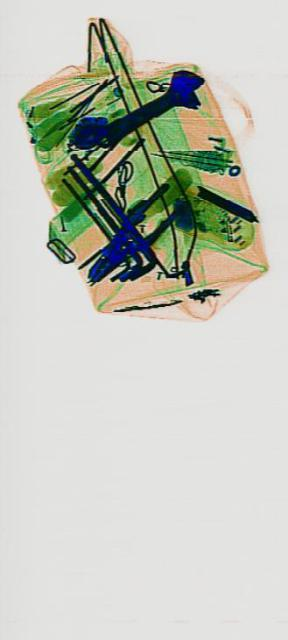Pliers: (83, 172, 177, 302)
Wrench: (90, 50, 208, 170)
